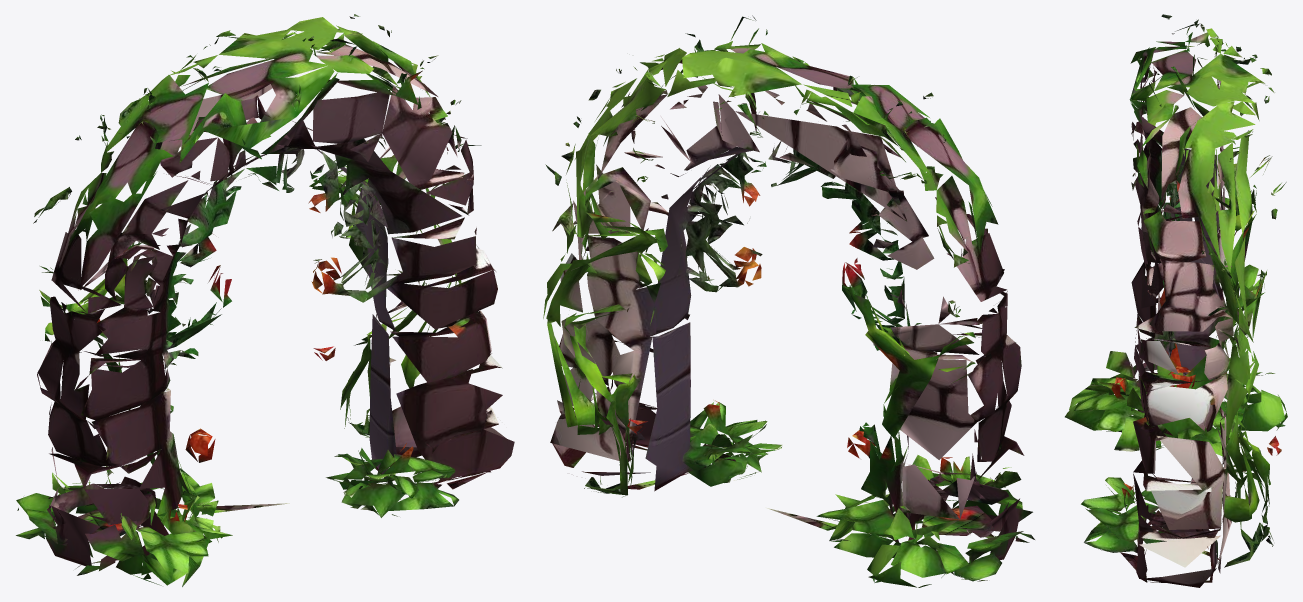
The model's file is bahar_kapisi.glb.
The picture shows the model from 3 angles, left to right: view 1: azimuth 30°, elevation 25°; view 2: azimuth 150°, elevation 25°; view 3: azimuth 270°, elevation 25°; orthographic projection. The views are drawn at different scales.
Parts seen in each view (by area): view 1: geometry_0; view 2: geometry_0; view 3: geometry_0.
Part boxes in pixels (x1=…): geometry_0: x1=16, y1=14, x2=514, y2=586; geometry_0: x1=543, y1=15, x2=1034, y2=587; geometry_0: x1=1065, y1=14, x2=1287, y2=587.
Size of the model in its own units: 0.9931 by 0.969 by 0.441.
1 material, 1 textured.
